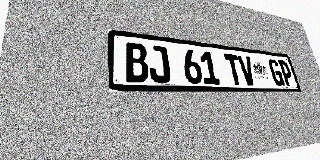1: (198, 51, 220, 84)
6: (181, 49, 204, 84)
B: (124, 42, 150, 83)
G: (267, 59, 285, 86)
J: (147, 44, 171, 83)
P: (277, 60, 295, 86)
T: (224, 54, 244, 85)
V: (237, 55, 257, 85)
